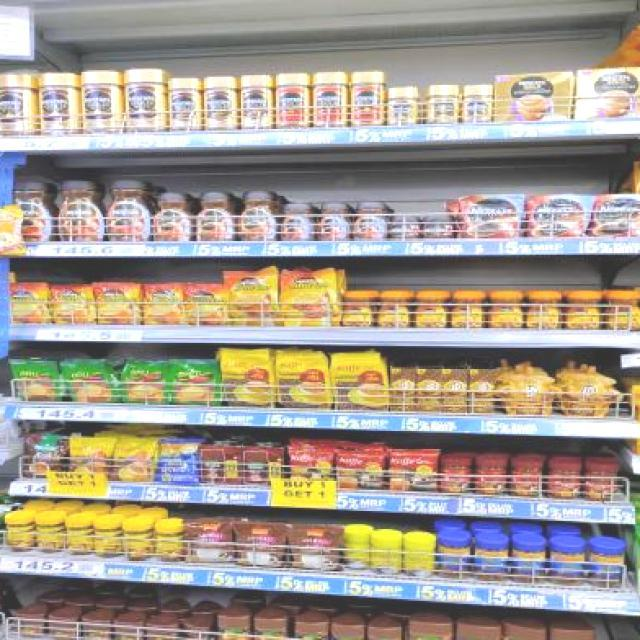Coffee: (280, 274, 336, 326), (56, 180, 102, 240), (229, 271, 277, 325), (109, 180, 149, 242), (463, 197, 520, 239), (38, 72, 76, 134), (81, 71, 118, 133), (531, 198, 586, 238), (126, 70, 160, 132), (594, 196, 640, 238), (94, 282, 139, 324), (153, 192, 191, 240), (238, 192, 276, 239), (0, 75, 28, 137), (197, 192, 232, 240), (240, 76, 272, 128), (205, 77, 236, 130), (143, 284, 184, 324), (187, 285, 229, 324), (51, 286, 94, 324), (170, 78, 201, 130), (8, 284, 46, 322), (488, 290, 521, 330), (609, 290, 640, 330), (566, 291, 598, 329), (528, 290, 558, 330), (414, 290, 446, 327), (317, 204, 349, 240), (428, 84, 458, 122), (388, 87, 418, 125), (356, 202, 386, 240), (464, 85, 492, 124), (282, 203, 312, 239), (452, 290, 482, 326), (380, 292, 410, 327), (342, 293, 372, 326), (422, 216, 453, 238), (390, 217, 420, 239)
